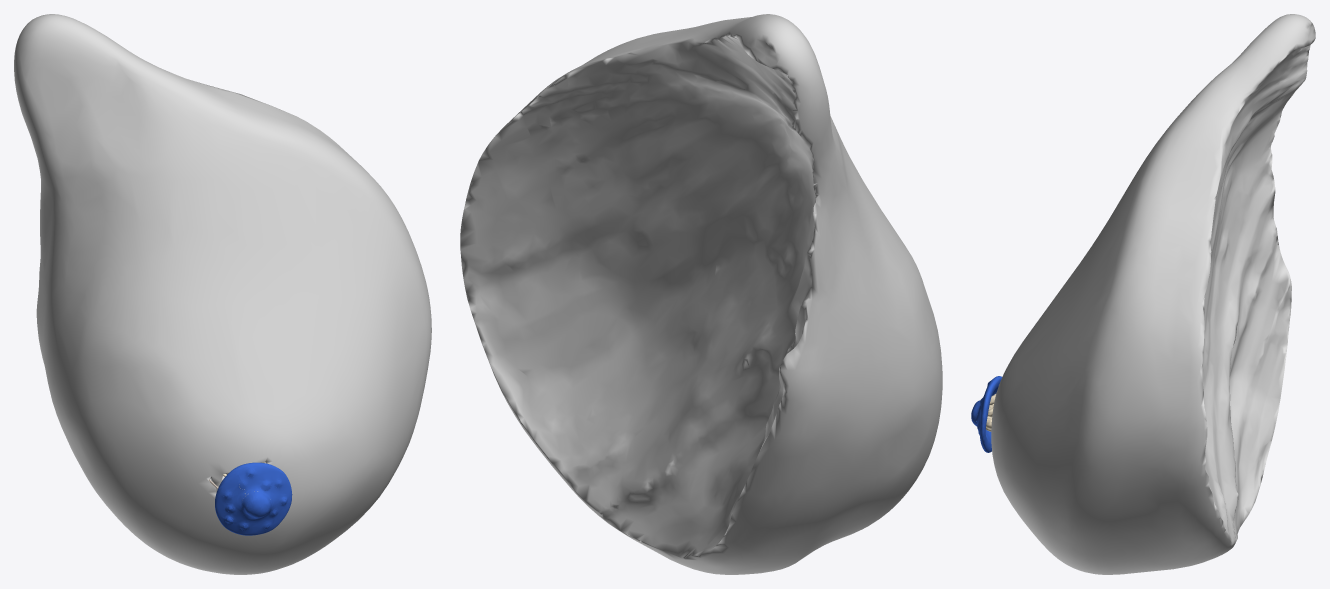
File: 3d-vh-f-mammary-gland-r-20.fbx
3 renders of one model, left to right at view 1: azimuth 30°, elevation 25°; view 2: azimuth 150°, elevation 25°; view 3: azimuth 270°, elevation 25°, orthographic. The views are drawn at different scales.
Visible parts, largest first — view 1: VH_F_fat_R, VH_F_areola_R, VH_F_nipple_R, VH_F_areolar_tubercles_R; view 2: VH_F_fat_R; view 3: VH_F_fat_R, VH_F_areola_R.
Part boxes in pixels (x1,y1,x2,y2): VH_F_fat_R: [14, 14, 431, 574]; VH_F_areola_R: [215, 462, 292, 535]; VH_F_nipple_R: [241, 491, 271, 519]; VH_F_areolar_tubercles_R: [223, 468, 286, 530]; VH_F_fat_R: [460, 14, 942, 574]; VH_F_fat_R: [991, 14, 1315, 574]; VH_F_areola_R: [976, 376, 1002, 452].
Bounding box in the file's own units: 12.83 × 18 × 11.32.
